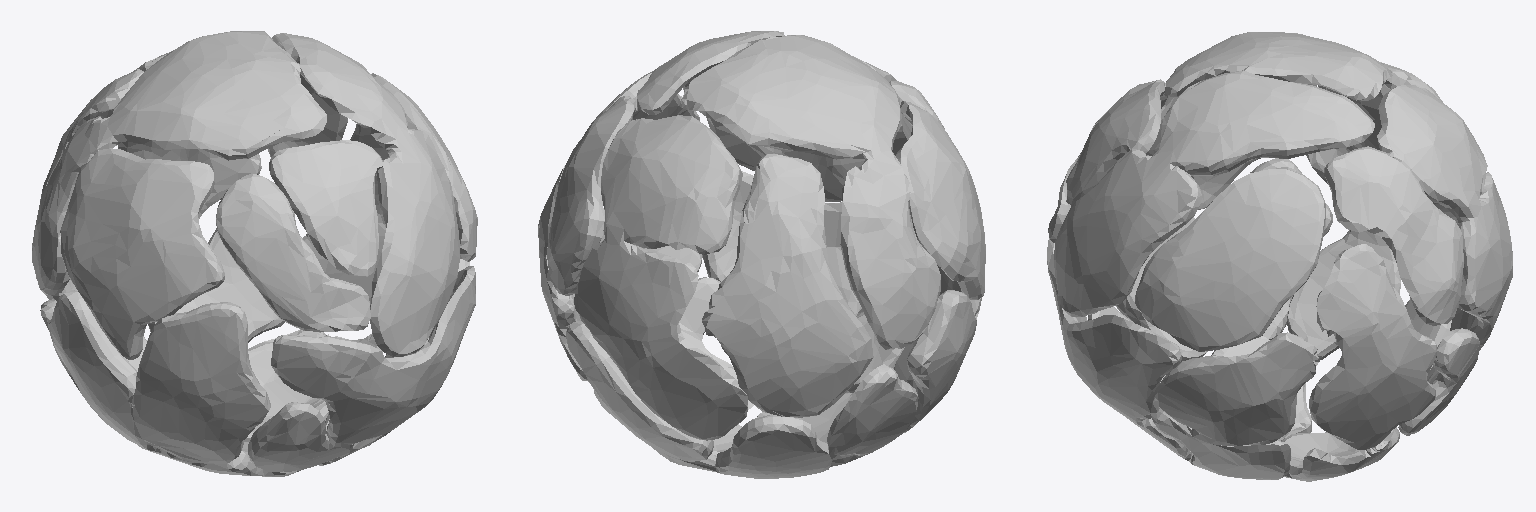
File: Extract7.OBJ
3 renders of one model, left to right at view 1: azimuth 30°, elevation 25°; view 2: azimuth 150°, elevation 25°; view 3: azimuth 270°, elevation 25°, orthographic.
Visible parts, largest first — view 1: Group48246; view 2: Group48246; view 3: Group48246.
Boxes of the visible parts, x1=… form: Group48246: x1=32, y1=31, x2=477, y2=476; Group48246: x1=538, y1=31, x2=985, y2=478; Group48246: x1=1047, y1=32, x2=1512, y2=481.
Bounding box in the file's own units: 2.1 × 2.11 × 2.21.